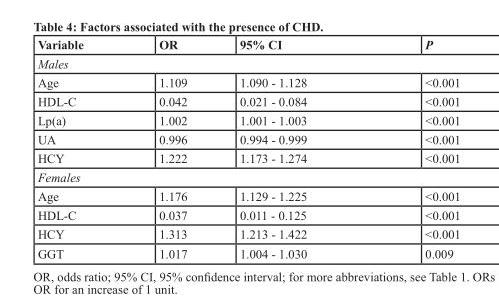table: (36, 37, 459, 260)
table column: (212, 37, 365, 260), (365, 37, 459, 260), (120, 37, 212, 260), (36, 37, 120, 260)
table column header: (36, 37, 459, 53)
table projected row header: (36, 53, 459, 72), (36, 167, 459, 186)
table row: (36, 53, 459, 72), (36, 72, 459, 91), (36, 91, 459, 110), (36, 110, 459, 129), (36, 129, 459, 148), (36, 148, 459, 167), (36, 167, 459, 186), (36, 186, 459, 205), (36, 205, 459, 224), (36, 224, 459, 243), (36, 243, 459, 260), (36, 37, 459, 53)
